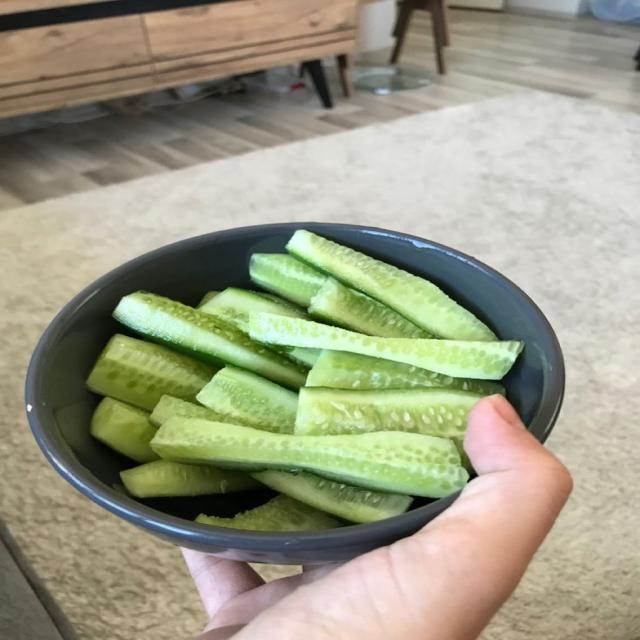cucumber sliced: (152, 418, 468, 497), (287, 230, 495, 340), (114, 292, 306, 388), (250, 313, 523, 379), (87, 335, 216, 410), (295, 387, 481, 437), (307, 351, 505, 395), (253, 470, 413, 522), (309, 278, 433, 337), (198, 366, 297, 433), (120, 460, 259, 497), (196, 496, 339, 531), (200, 288, 310, 333), (200, 288, 308, 331), (91, 398, 158, 462), (250, 254, 325, 307), (149, 395, 221, 427), (452, 436, 473, 474), (286, 348, 320, 367), (196, 291, 221, 309)
